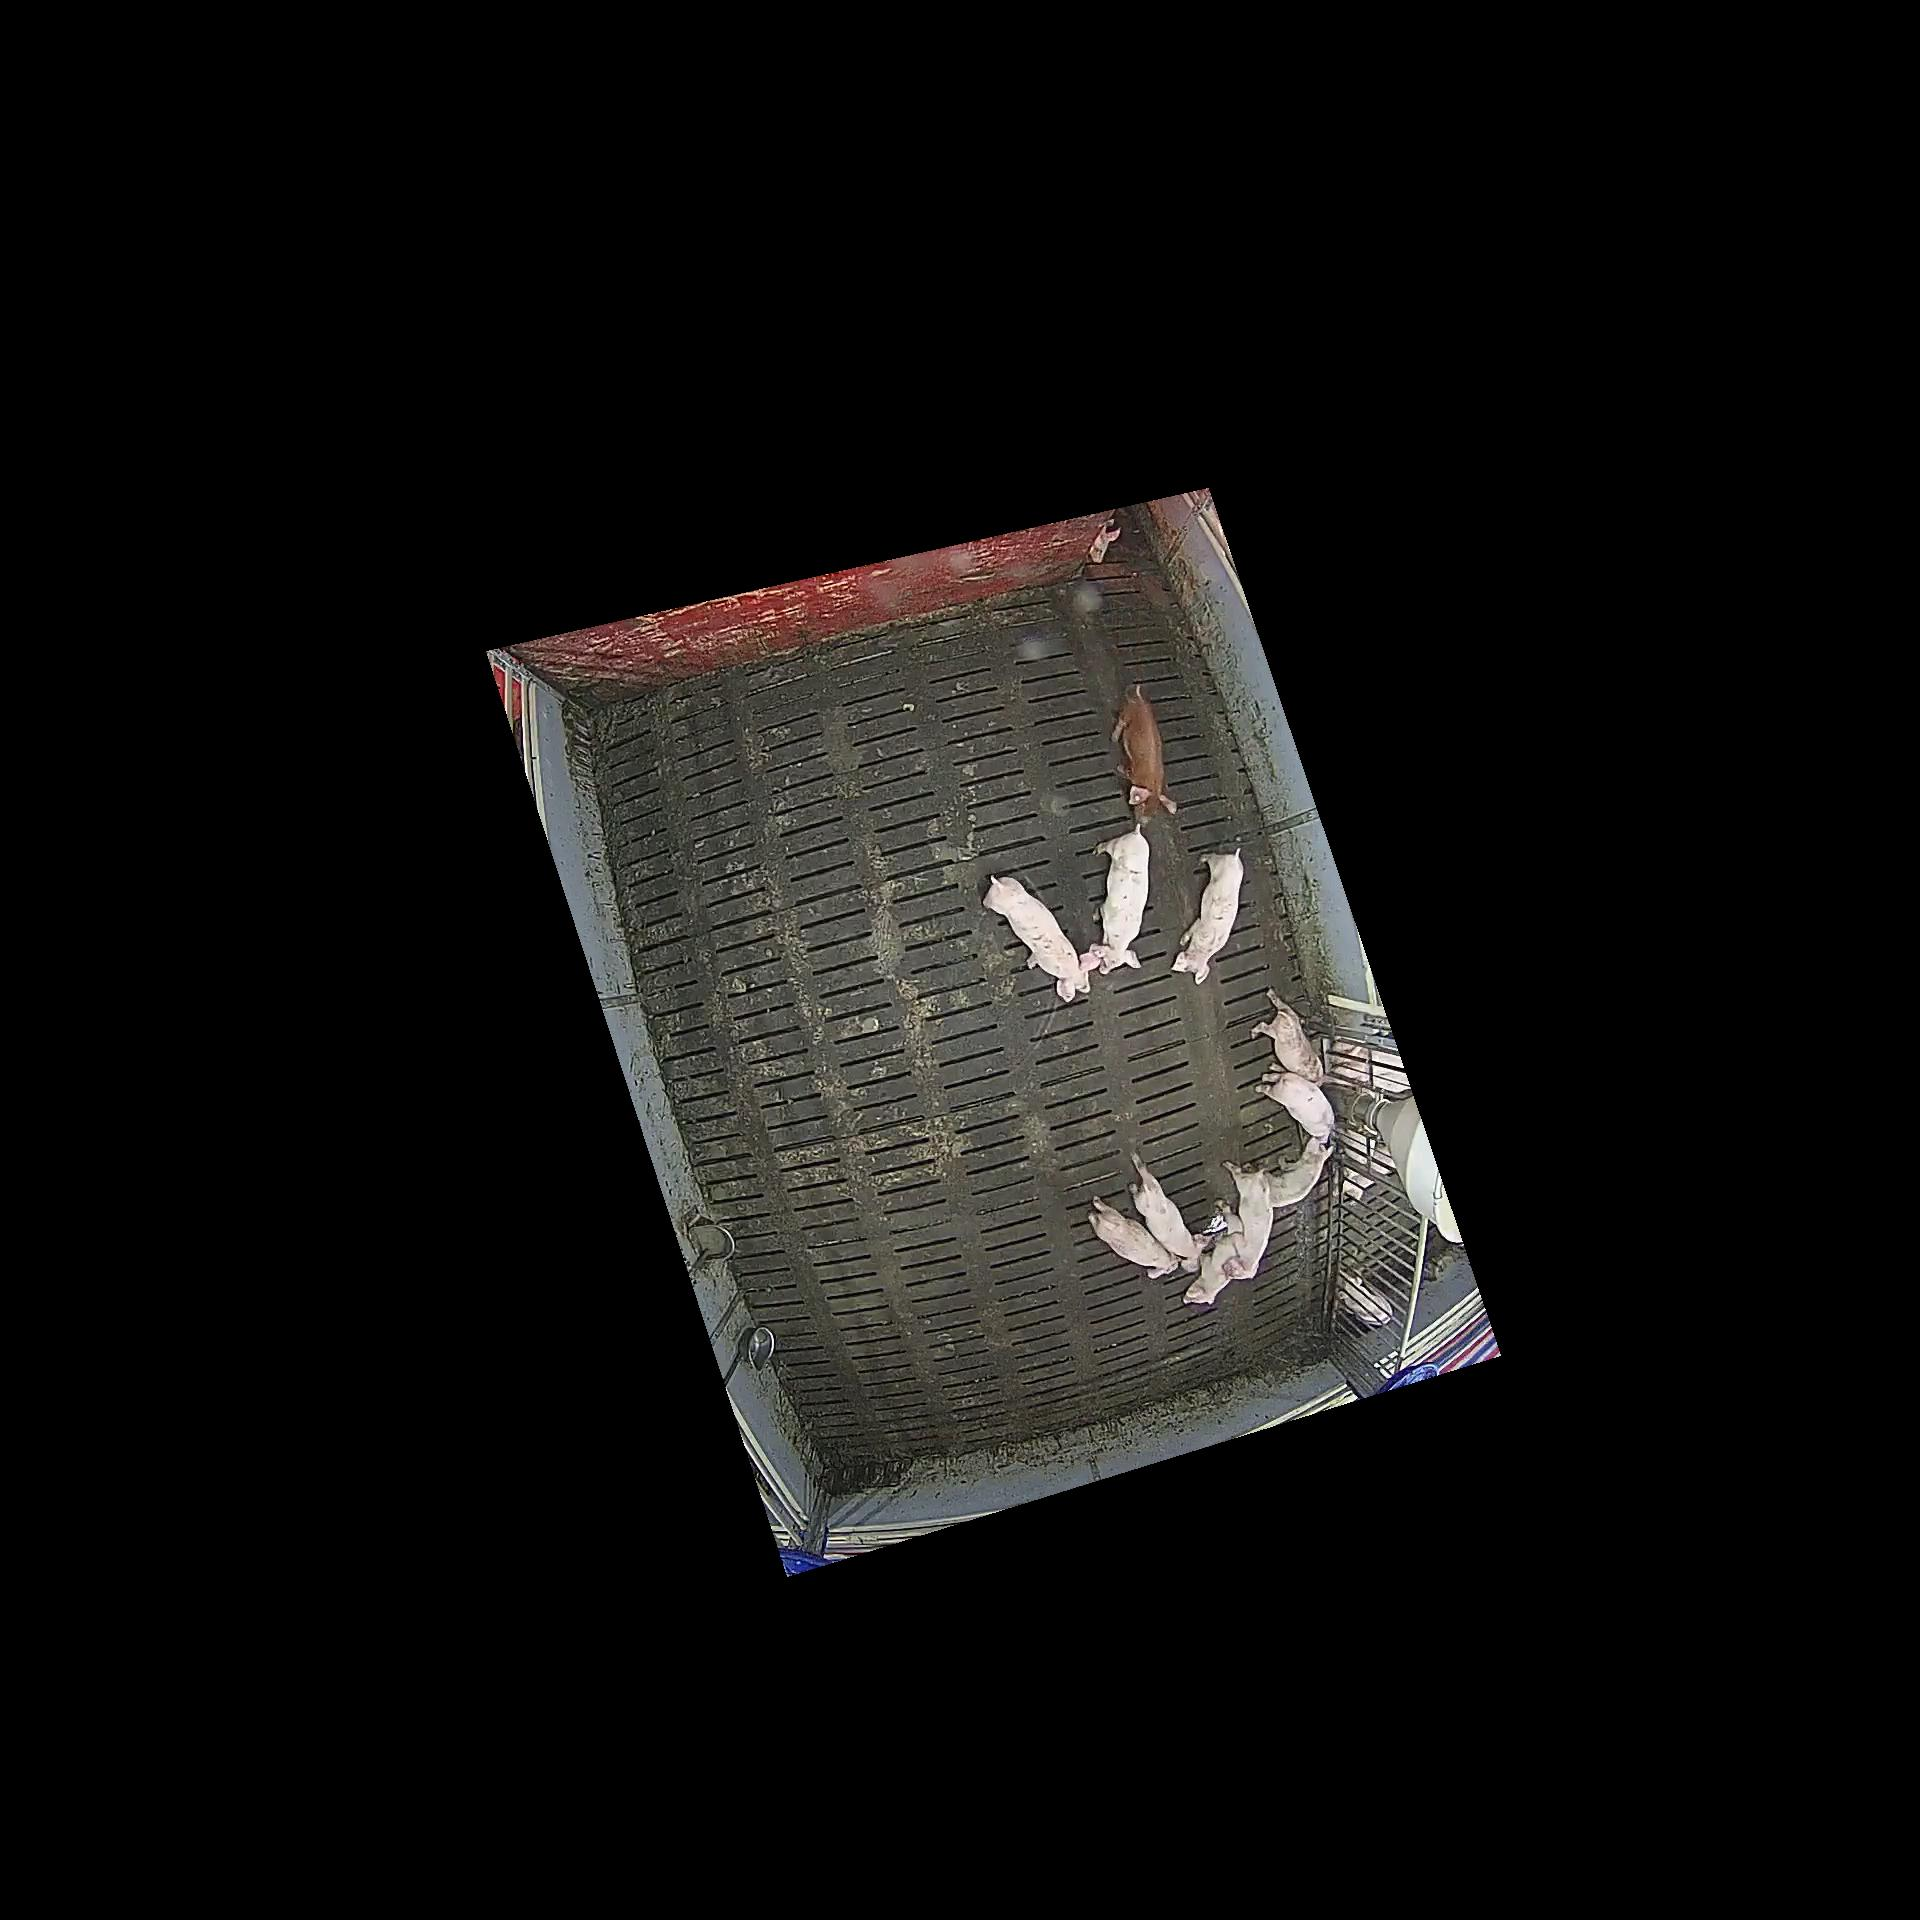pig: (983, 876, 1101, 1002), (1129, 1152, 1213, 1271), (1173, 847, 1243, 985), (1111, 684, 1178, 823), (1094, 823, 1150, 976), (1088, 1196, 1182, 1278), (1250, 988, 1327, 1087), (1215, 1162, 1273, 1280), (1252, 1074, 1335, 1143), (1264, 1141, 1333, 1208), (1183, 1248, 1234, 1306)
